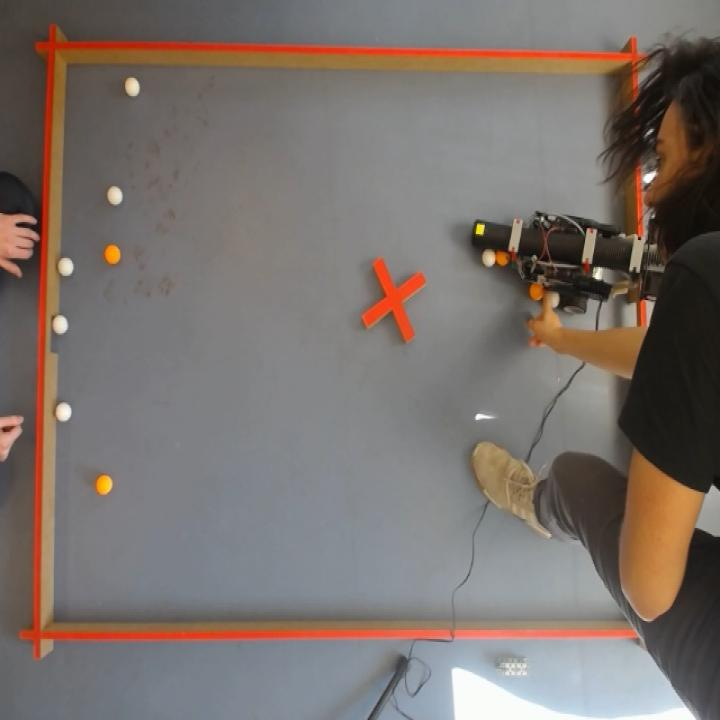orange: (92, 472, 115, 500), (103, 242, 123, 268), (530, 280, 543, 299)
robot: (471, 212, 663, 315)
robot-front: (472, 220, 506, 250)
white: (53, 400, 75, 426), (105, 183, 125, 210), (122, 75, 141, 102), (56, 256, 76, 280), (52, 312, 70, 338), (483, 247, 494, 267)
